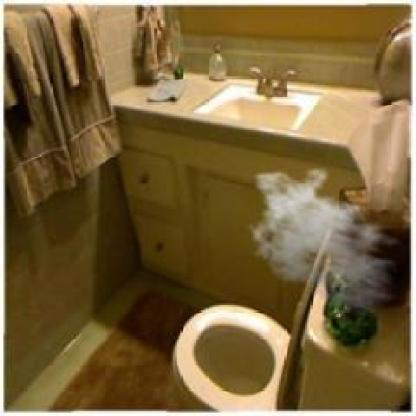Smoke: (244, 168, 409, 314)
